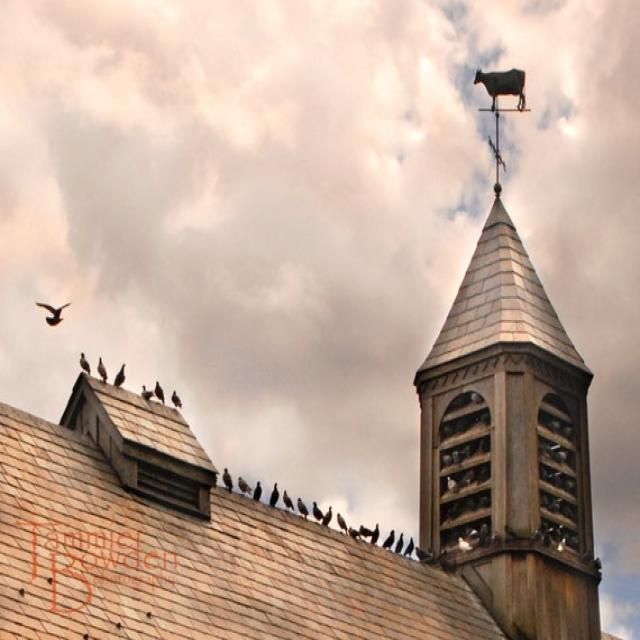bird: (36, 301, 72, 325), (361, 524, 379, 544), (97, 357, 108, 384), (238, 477, 252, 498), (79, 352, 91, 376), (382, 530, 396, 550), (153, 381, 165, 404), (416, 546, 433, 562), (114, 363, 125, 387), (297, 498, 309, 520), (222, 468, 233, 492), (312, 502, 324, 523), (337, 513, 348, 535), (270, 483, 280, 507), (283, 491, 294, 512), (321, 507, 332, 527), (404, 537, 415, 557), (171, 390, 182, 409), (395, 533, 405, 553), (252, 482, 262, 501), (140, 386, 153, 400), (349, 529, 361, 541)
